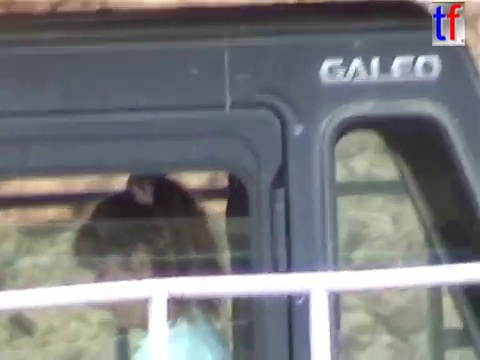truck: (1, 1, 480, 360)
worker: (69, 167, 240, 360)
